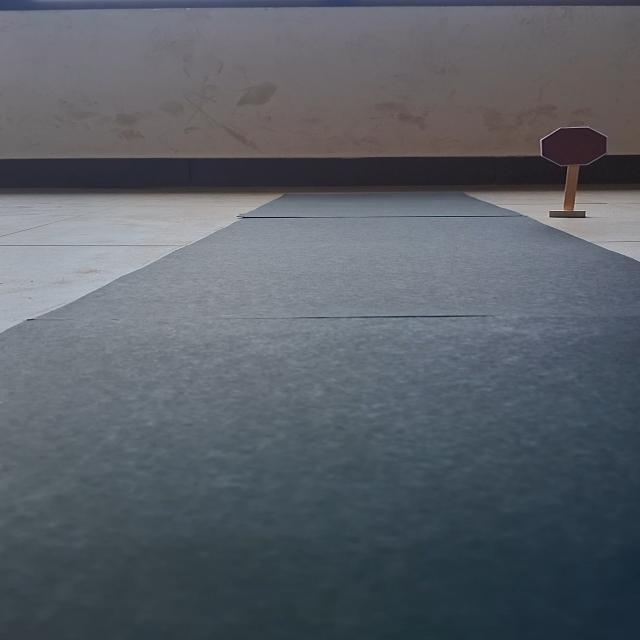Stop: (539, 127, 608, 166)
